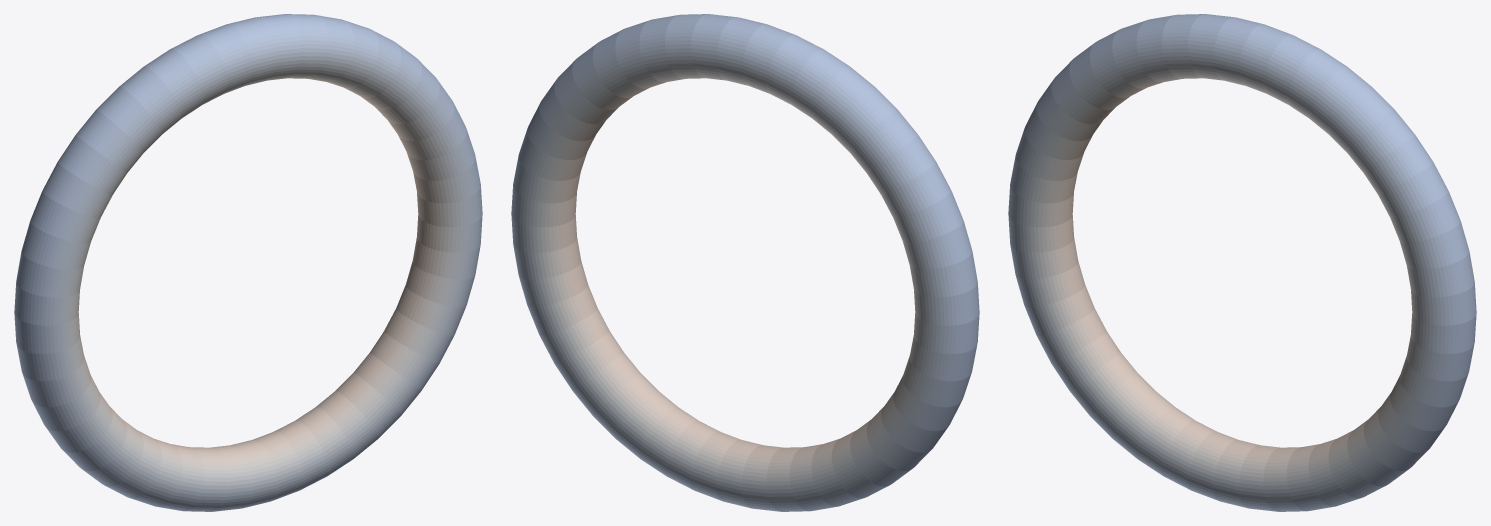
3 renders of one model, left to right at view 1: azimuth 30°, elevation 25°; view 2: azimuth 150°, elevation 25°; view 3: azimuth 330°, elevation 25°, orthographic.
Parts seen in each view (by area): view 1: world; view 2: world; view 3: world.
Part boxes in pixels (<box>): world: <box>14,14,482,511</box>; world: <box>511,14,979,511</box>; world: <box>1008,14,1476,511</box>.
Size of the model in its own units: 31.87 by 31.8 by 3.86.
